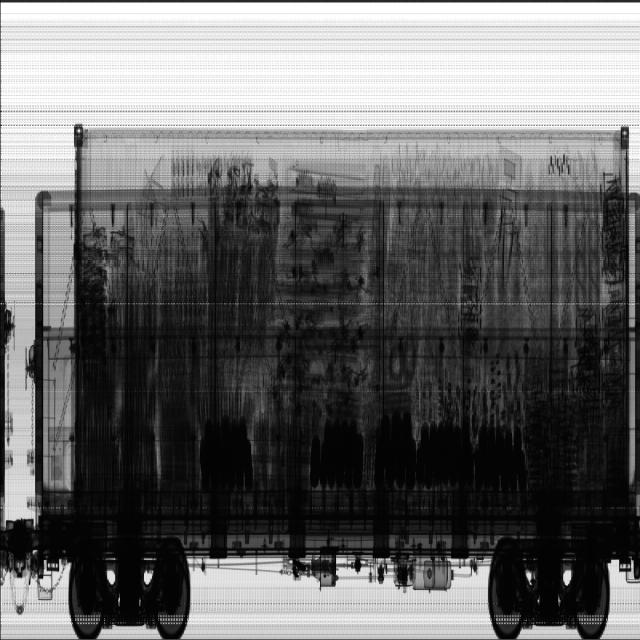auto parts: (373, 412, 528, 503), (198, 418, 256, 494), (308, 420, 366, 492)
tools: (524, 171, 628, 492), (77, 228, 110, 359)
